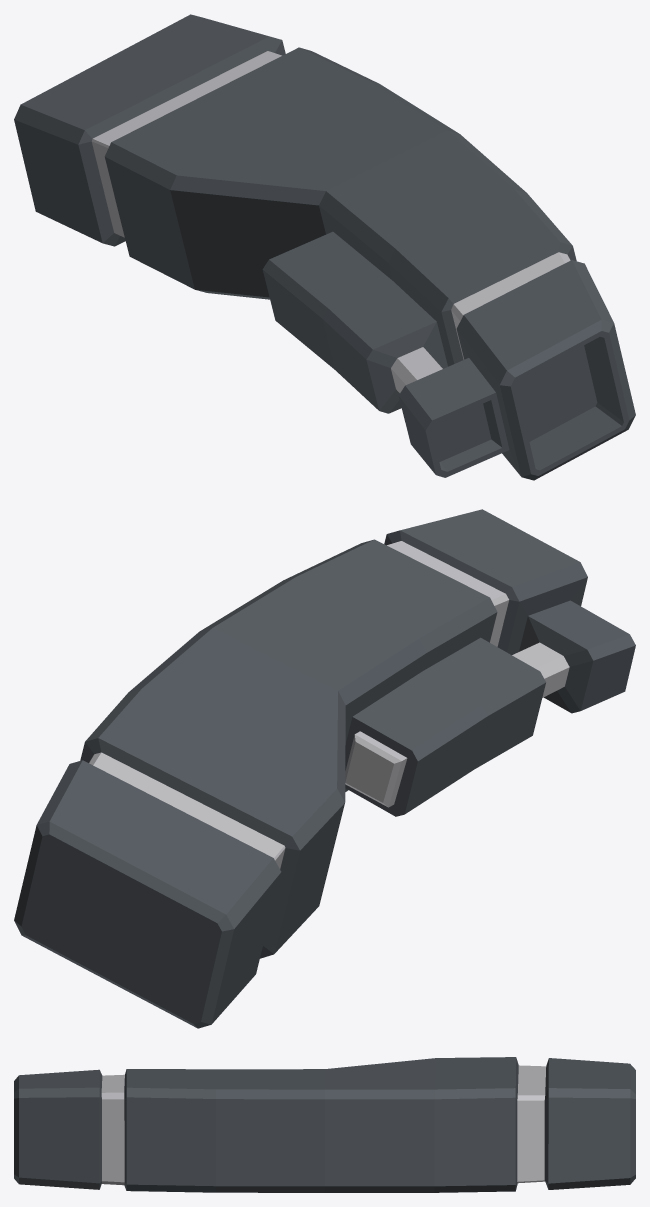
File: Fighter_10_Light_Left.fbx
3 views of the same model, one above another, from view 1: azimuth 30°, elevation 25°; view 2: azimuth 150°, elevation 25°; view 3: azimuth 270°, elevation 25° (orthographic). The views are drawn at different scales.
Visible parts, largest first — view 1: Fighter_10_Light_Left; view 2: Fighter_10_Light_Left; view 3: Fighter_10_Light_Left.
Boxes of the visible parts, <box> form: Fighter_10_Light_Left: <box>14,14,635,480</box>; Fighter_10_Light_Left: <box>14,509,635,1028</box>; Fighter_10_Light_Left: <box>14,1057,635,1192</box>.
Size of the model in its own units: 337 by 229 by 929.
Materials: 2 (2 with a texture image).
